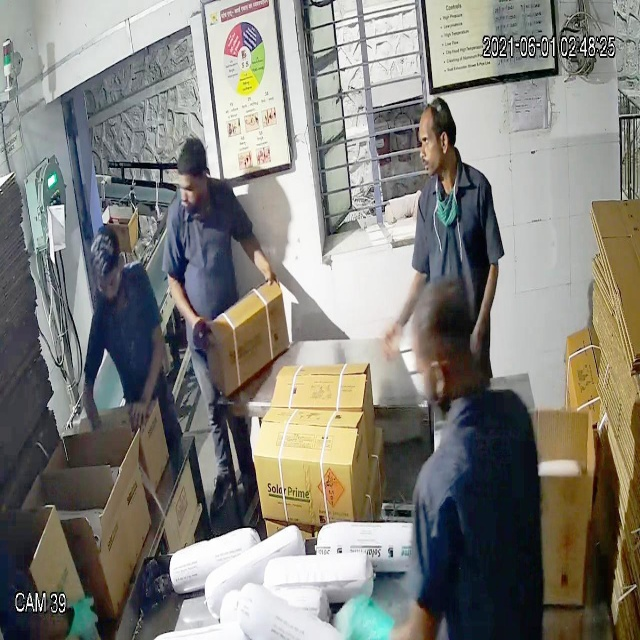Sin_gafas: (414, 125, 459, 159)
